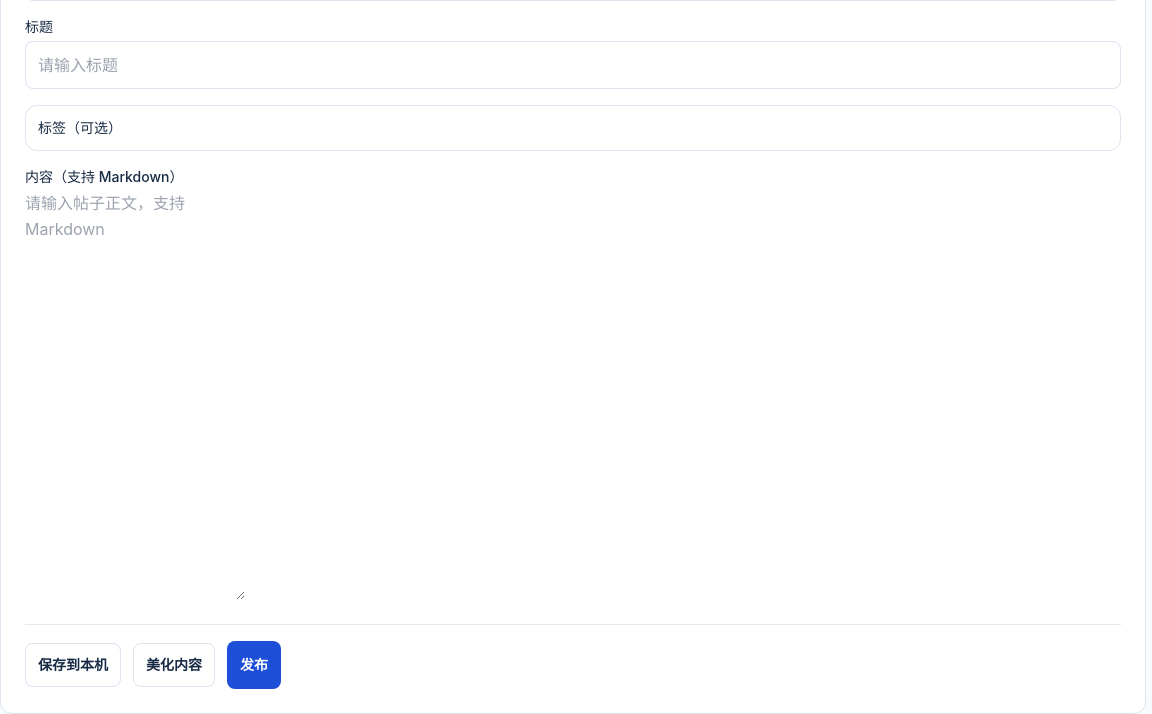
Test: ThreadCreate › does not claim manual save success when storage rejects the write
(page scrolled)
Click the button "保存到本机" at (73,665), box [25,643,121,687]
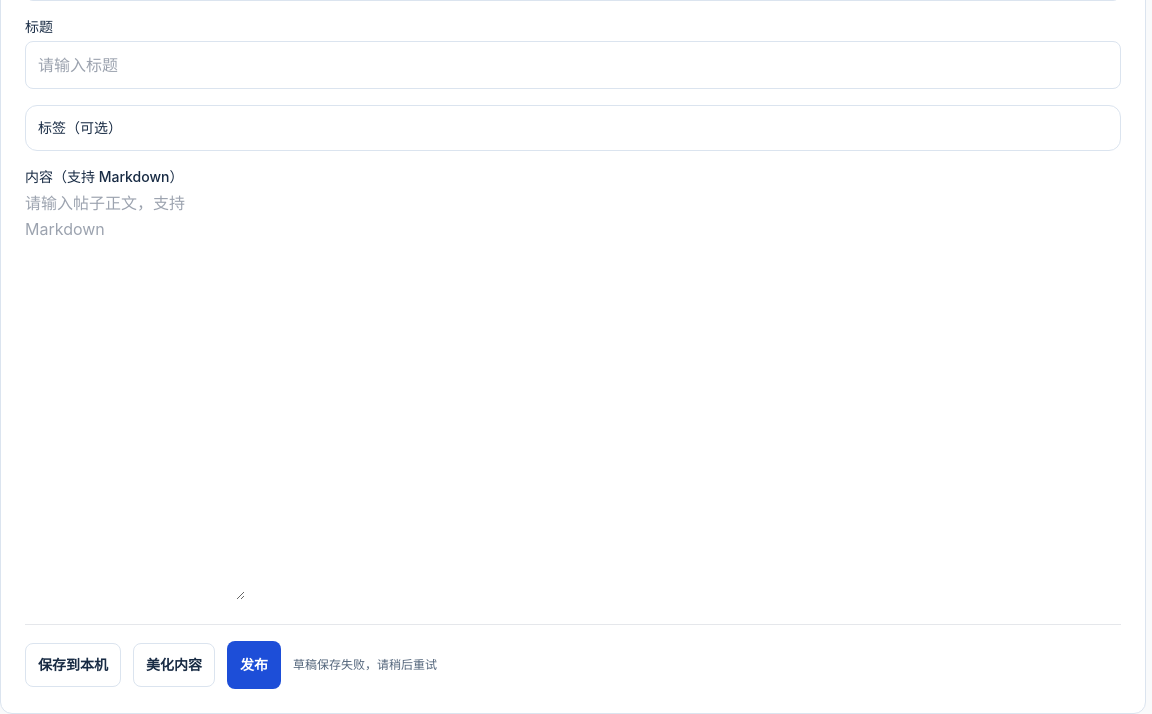
Now the text "草稿保存失败" is shown, box [293,657,437,672]
